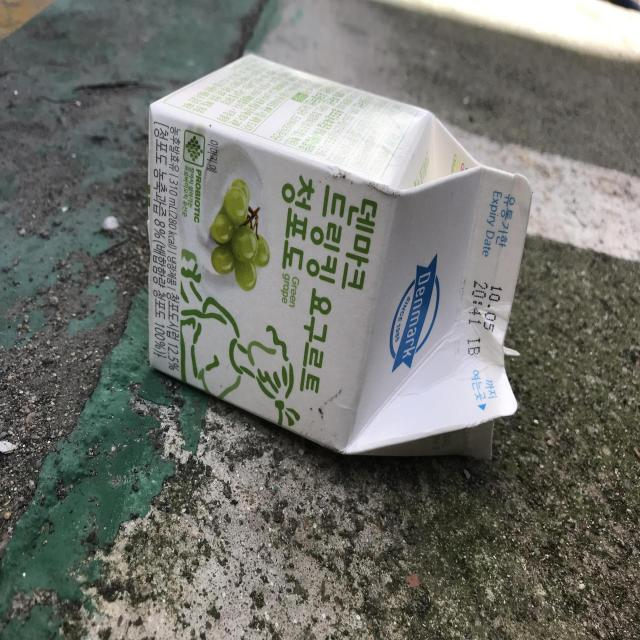paperpack: (148, 54, 531, 458)
